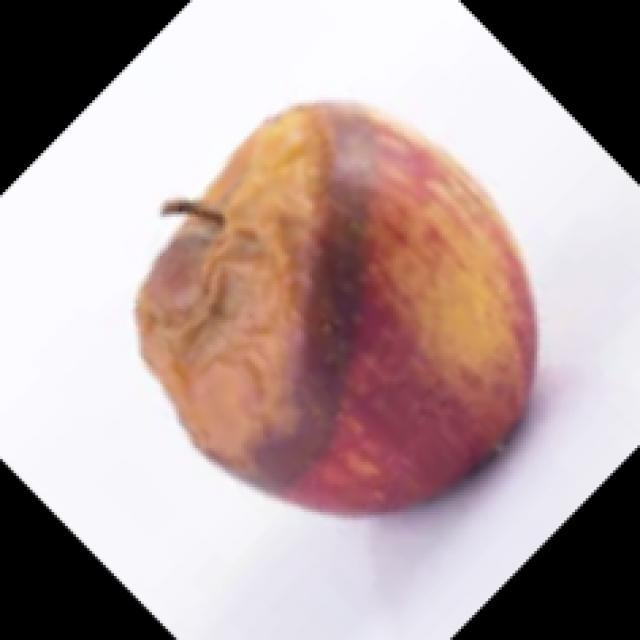Rotten: (120, 105, 533, 500)
